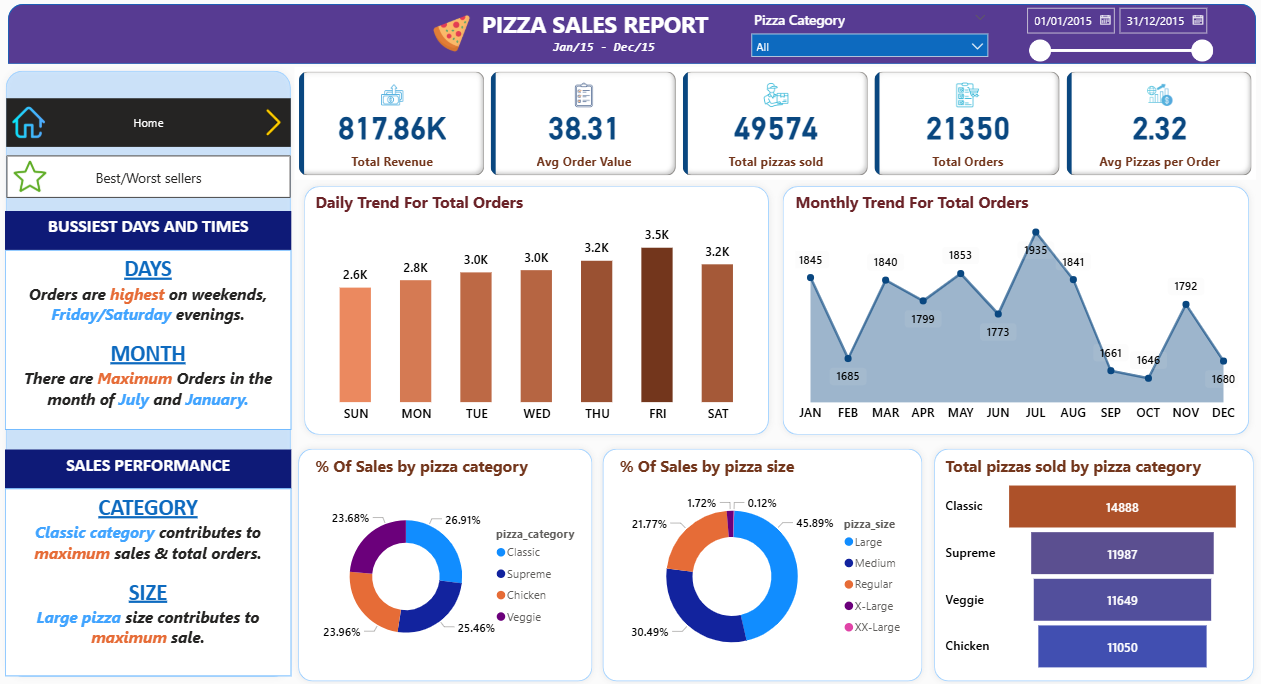

This screenshot's page, from the dashboard's own definition file:
{"tool":"powerbi","page":{"name":"Home","canvas":[1500,820],"ordinal":0},"visuals":[{"type":"shape","box":[3.5,81.6,353.1,732.9],"z":0},{"type":"cardVisual","fields":{"Data":["pizza_sales.Total Revenue","pizza_sales.Avg_Order_Value","pizza_sales.Total_pizzas_sold","pizza_sales.Total_Orders","pizza_sales.Avg_Pizzas_per_Order"]},"box":[352.6,85.2,1137.1,133.7],"z":1000},{"type":"shape","box":[14.2,10.6,1476.3,71],"z":2000},{"type":"textbox","box":[550.2,10.9,317.3,45.3],"z":3000},{"type":"textbox","box":[650.2,45.3,139.1,40.6],"z":4000},{"type":"image","box":[503.3,17.2,70.3,54.7],"z":5000},{"type":"shape","box":[356.4,218.9,565.7,309.9],"z":6000},{"type":"columnChart","title":"Daily Trend For Total Orders","fields":{"Category":["pizza_sales.Order day"],"Y":["pizza_sales.Total_Orders"]},"box":[371.9,232.5,534.7,282.8],"z":7000},{"type":"shape","box":[922.1,218.9,567.6,309.9],"z":8000},{"type":"areaChart","title":"Monthly Trend For Total Orders","fields":{"Category":["pizza_sales.Order Month"],"Y":["pizza_sales.Total_Orders"]},"box":[940.5,232.5,534.1,282.1],"z":9000},{"type":"shape","box":[349.6,528.8,363.8,291],"z":10000},{"type":"shape","box":[709.8,528.8,393.9,291],"z":11000},{"type":"shape","box":[1101.9,528.8,393.9,291],"z":12000},{"type":"donutChart","title":"% Of Sales by pizza category","fields":{"Category":["pizza_sales.pizza_category"],"Y":["pizza_sales.Total Revenue"]},"box":[372.6,544.8,331.8,260.8],"z":13000},{"type":"donutChart","title":"% Of Sales by pizza size","fields":{"Y":["pizza_sales.Total Revenue"],"Category":["pizza_sales.pizza_size"]},"box":[732.9,544.8,354.9,260.8],"z":14000},{"type":"funnel","title":"Total pizzas sold by pizza category","fields":{"Category":["pizza_sales.pizza_category"],"Y":["pizza_sales.Total_pizzas_sold"]},"box":[1117.9,544.8,358.4,260.8],"z":15000},{"type":"textbox","box":[10.6,255.5,338.9,46.1],"z":16000},{"type":"textbox","box":[10.6,301.7,338.9,212.9],"z":17000},{"type":"textbox","box":[10.6,537.7,338.9,46.1],"z":18000},{"type":"textbox","box":[10.6,583.8,338.9,221.8],"z":19000},{"type":"slicer","fields":{"Values":["pizza_sales.pizza_category"]},"box":[883.7,12.4,299.9,74.5],"z":20000},{"type":"slicer","fields":{"Values":["pizza_sales.order_date"]},"box":[1206.6,5.3,241.3,81.6],"z":21000},{"type":"pageNavigator","box":[13.3,121.8,336.6,57.6],"z":22000},{"type":"pageNavigator","box":[13.3,190.5,336.6,50.9],"z":23000},{"type":"image","box":[307.8,126.2,42.1,48.7],"z":24000},{"type":"image","box":[0,126.2,77.5,48.7],"z":25000},{"type":"image","box":[4.4,190.5,73.1,48.7],"z":26000}]}

Visuals, with their boxes in screenshot pixels (x1, y1, x2, y2), scaled from the page's 1500x820 canvas onto the 1261x684 screenshot:
shape: bbox=(3, 68, 300, 679)
cardVisual - pizza_sales.Total Revenue x pizza_sales.Avg_Order_Value: bbox=(296, 71, 1252, 183)
shape: bbox=(12, 9, 1253, 68)
textbox: bbox=(463, 9, 729, 47)
textbox: bbox=(547, 38, 664, 72)
image: bbox=(423, 14, 482, 60)
shape: bbox=(300, 183, 775, 441)
"Daily Trend For Total Orders" columnChart: bbox=(313, 194, 762, 430)
shape: bbox=(775, 183, 1252, 441)
"Monthly Trend For Total Orders" areaChart: bbox=(791, 194, 1240, 429)
shape: bbox=(294, 441, 600, 683)
shape: bbox=(597, 441, 928, 683)
shape: bbox=(926, 441, 1257, 683)
"% Of Sales by pizza category" donutChart: bbox=(313, 454, 592, 672)
"% Of Sales by pizza size" donutChart: bbox=(616, 454, 914, 672)
"Total pizzas sold by pizza category" funnel: bbox=(940, 454, 1241, 672)
textbox: bbox=(9, 213, 294, 252)
textbox: bbox=(9, 252, 294, 429)
textbox: bbox=(9, 449, 294, 487)
textbox: bbox=(9, 487, 294, 672)
slicer - pizza_sales.pizza_category: bbox=(743, 10, 995, 72)
slicer - pizza_sales.order_date: bbox=(1014, 4, 1217, 72)
pageNavigator: bbox=(11, 102, 294, 150)
pageNavigator: bbox=(11, 159, 294, 201)
image: bbox=(259, 105, 294, 146)
image: bbox=(0, 105, 65, 146)
image: bbox=(4, 159, 65, 200)
